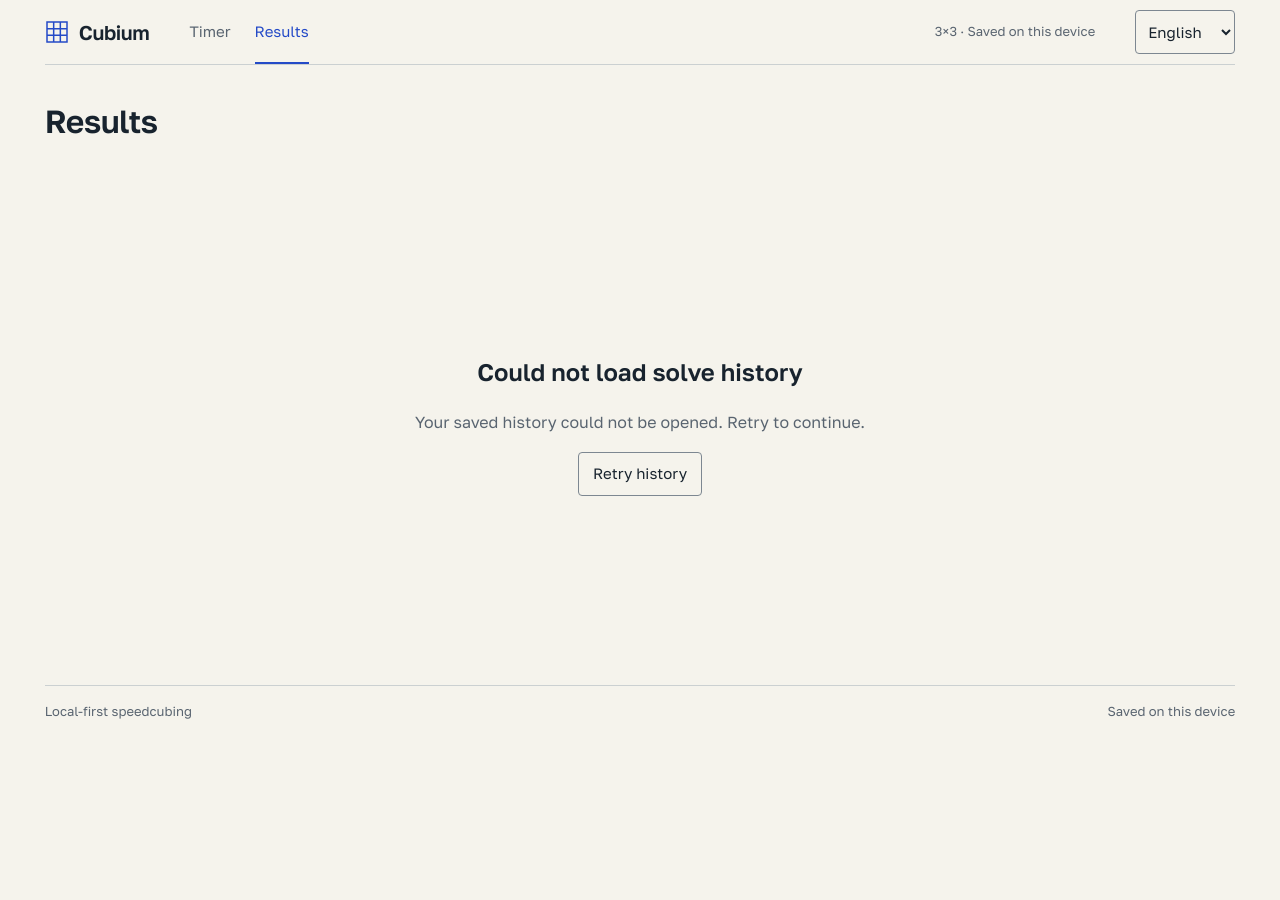
Scenario: reports and retries a history failure without generating a scramble
Click the button "Retry history" at (640, 474), box [578,452,702,496]
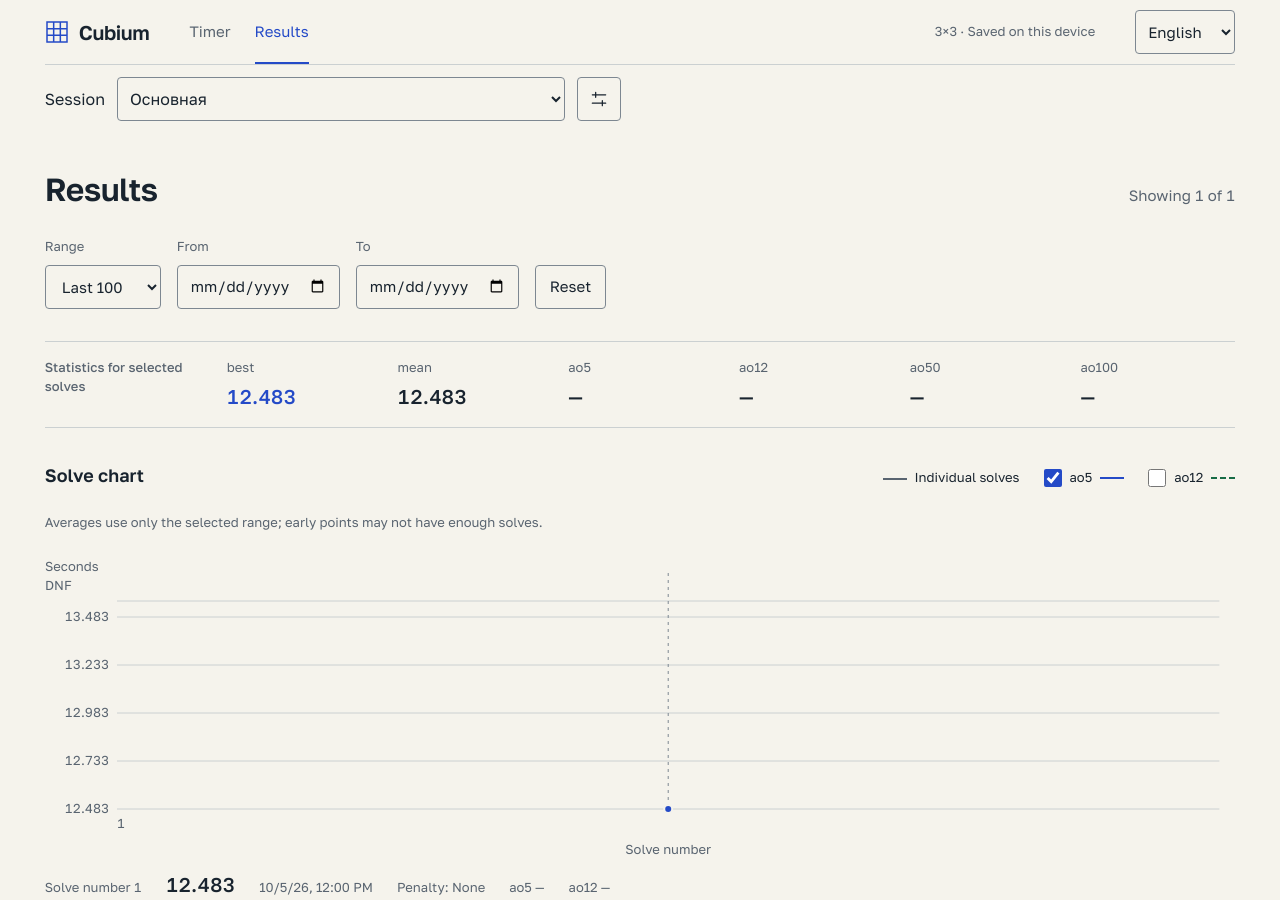
Expected: the element named "Solve chart" is shown, [45,557,1235,857]
